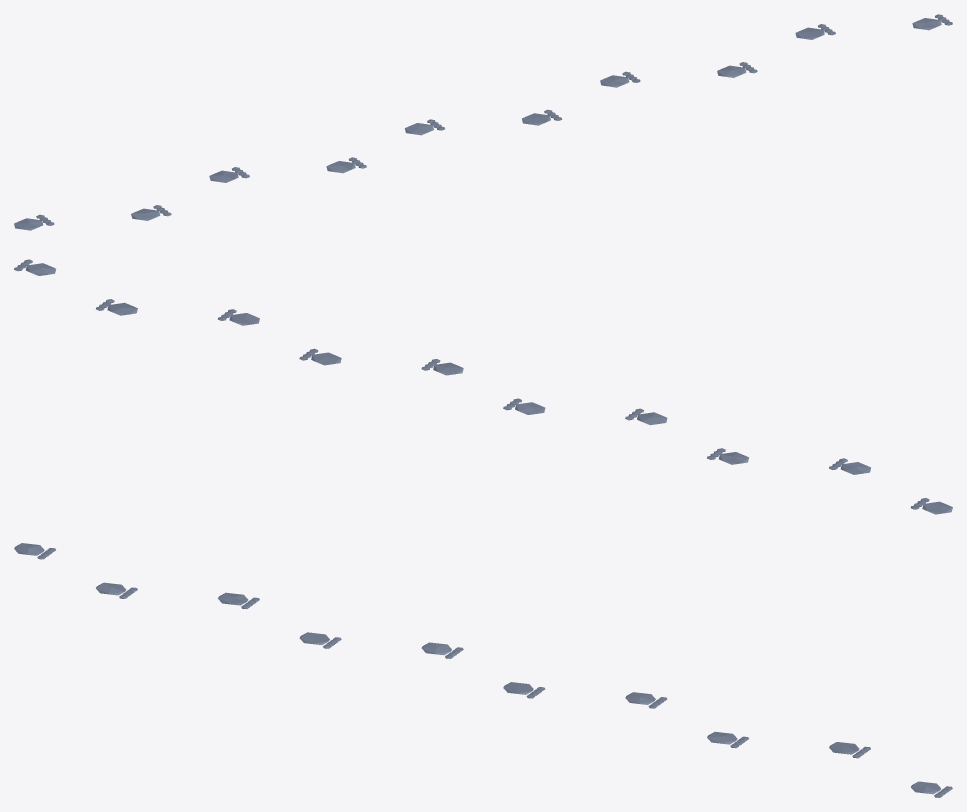
File: village_fox_tracks.glb
The picture shows the model from 3 angles, top to bottom: view 1: azimuth 30°, elevation 25°; view 2: azimuth 150°, elevation 25°; view 3: azimuth 330°, elevation 25°; orthographic projection. The views are drawn at different scales.
Visible parts, largest first — view 1: village_fox_tracks; view 2: village_fox_tracks; view 3: village_fox_tracks.
Boxes of the visible parts, box(x1,y1,x2,y2) form: village_fox_tracks: box(14, 14, 952, 230); village_fox_tracks: box(14, 259, 952, 514); village_fox_tracks: box(14, 543, 952, 797).
Size of the model in its own units: 3.27 by 0.0108 by 0.2055.
